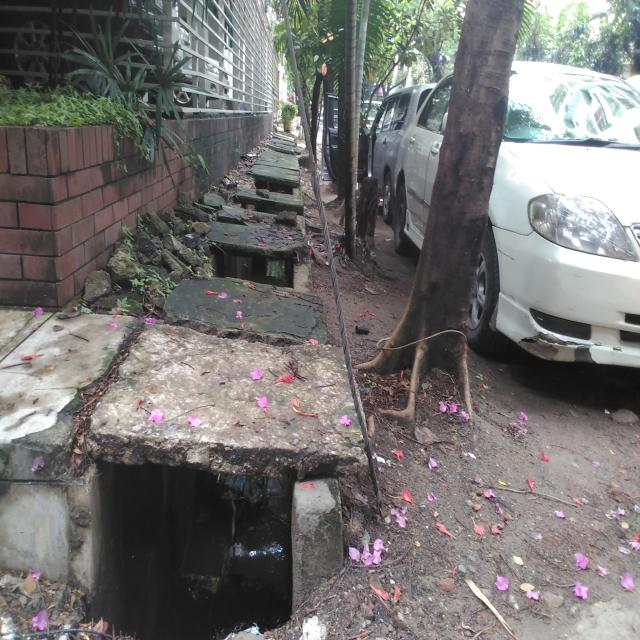drain_inlet: (202, 242, 300, 288)
